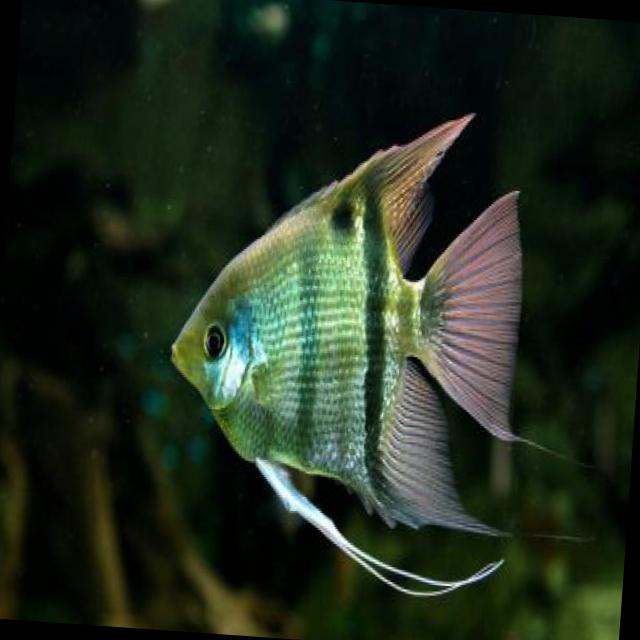AngelFish: (155, 87, 534, 578)
